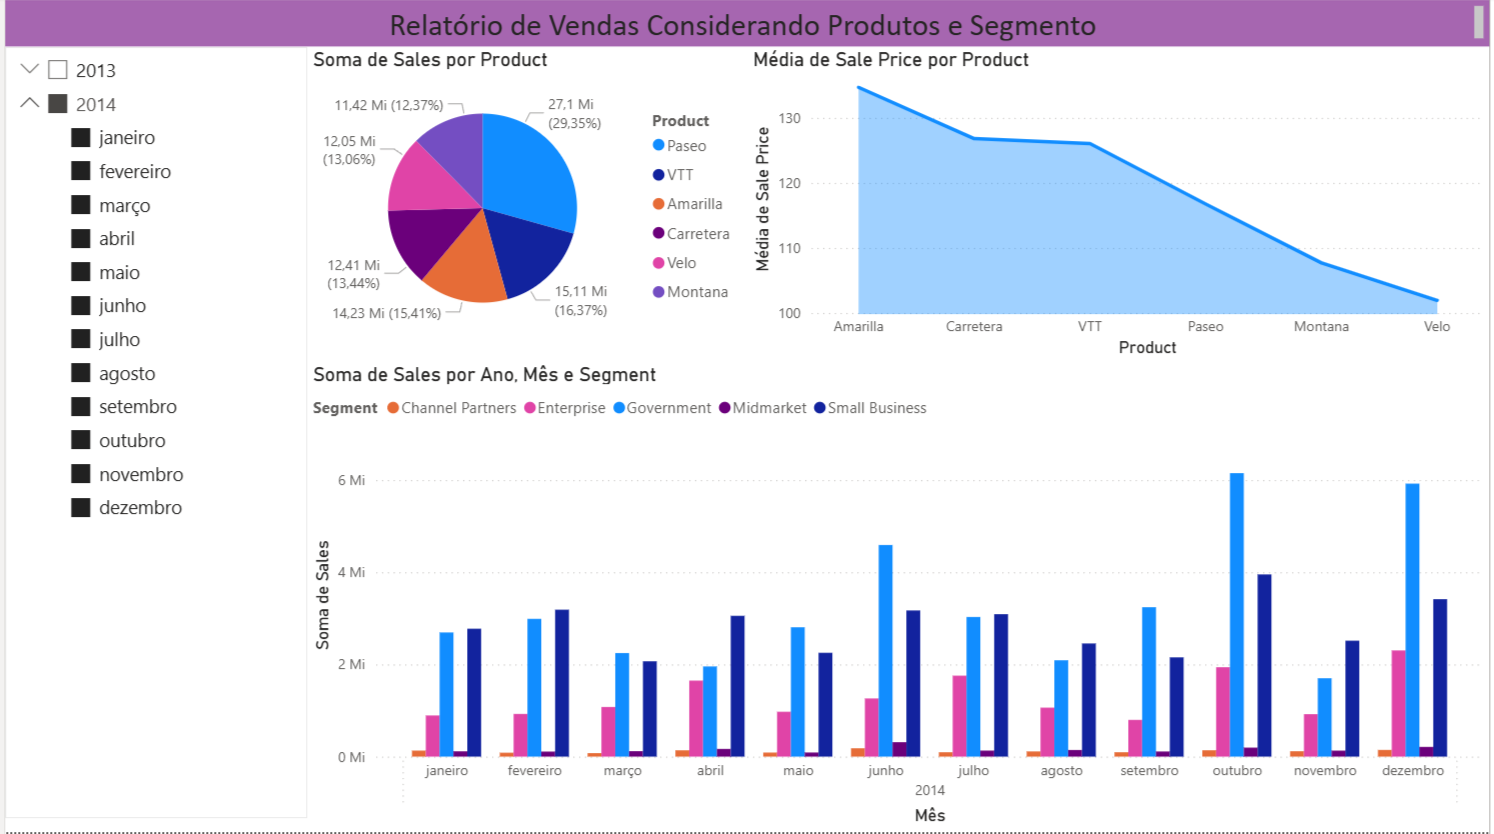

The page's visual inventory and layout, read from the dashboard file:
{"tool":"powerbi","page":{"name":"Vendas por PxSegmento","canvas":[1280,720],"ordinal":0},"visuals":[{"type":"slicer","fields":{"Values":["financials.Date.Variation.Hierarquia de datas.Ano","financials.Date.Variation.Hierarquia de datas.Mês"]},"box":[0,42.8,260.7,665.3],"z":0},{"type":"textbox","box":[0,2.9,1280,39.9],"z":1000},{"type":"pieChart","fields":{"Y":["Sum(financials. Sales)"],"Category":["financials.Product"]},"box":[260.7,42.8,379.3,258.7],"z":2000},{"type":"areaChart","fields":{"Y":["Avg(financials.Sale Price)"],"Category":["financials.Product"]},"box":[640,42.8,640,272.3],"z":3000},{"type":"clusteredColumnChart","fields":{"Y":["Sum(financials. Sales)"],"Category":["financials.Date.Variation.Hierarquia de datas.Ano","financials.Date.Variation.Hierarquia de datas.Mês"],"Series":["financials.Segment"]},"box":[260.7,315.1,1019.3,404.6],"z":4000}]}

Visuals, with their boxes on the page's 1280x720 design canvas (x1, y1, x2, y2). These are canvas units, not pixel positions in the 1494x834 screenshot, which may show the page scaled, cropped or inside an application window:
slicer - financials.Date.Variation.Hierarquia de datas.Ano x financials.Date.Variation.Hierarquia de datas.Mês: locate(0, 43, 261, 708)
textbox: locate(0, 3, 1280, 43)
pieChart - Sum(financials. Sales) x financials.Product: locate(261, 43, 640, 302)
areaChart - Avg(financials.Sale Price) x financials.Product: locate(640, 43, 1280, 315)
clusteredColumnChart - Sum(financials. Sales) x financials.Date.Variation.Hierarquia de datas.Ano: locate(261, 315, 1280, 720)
